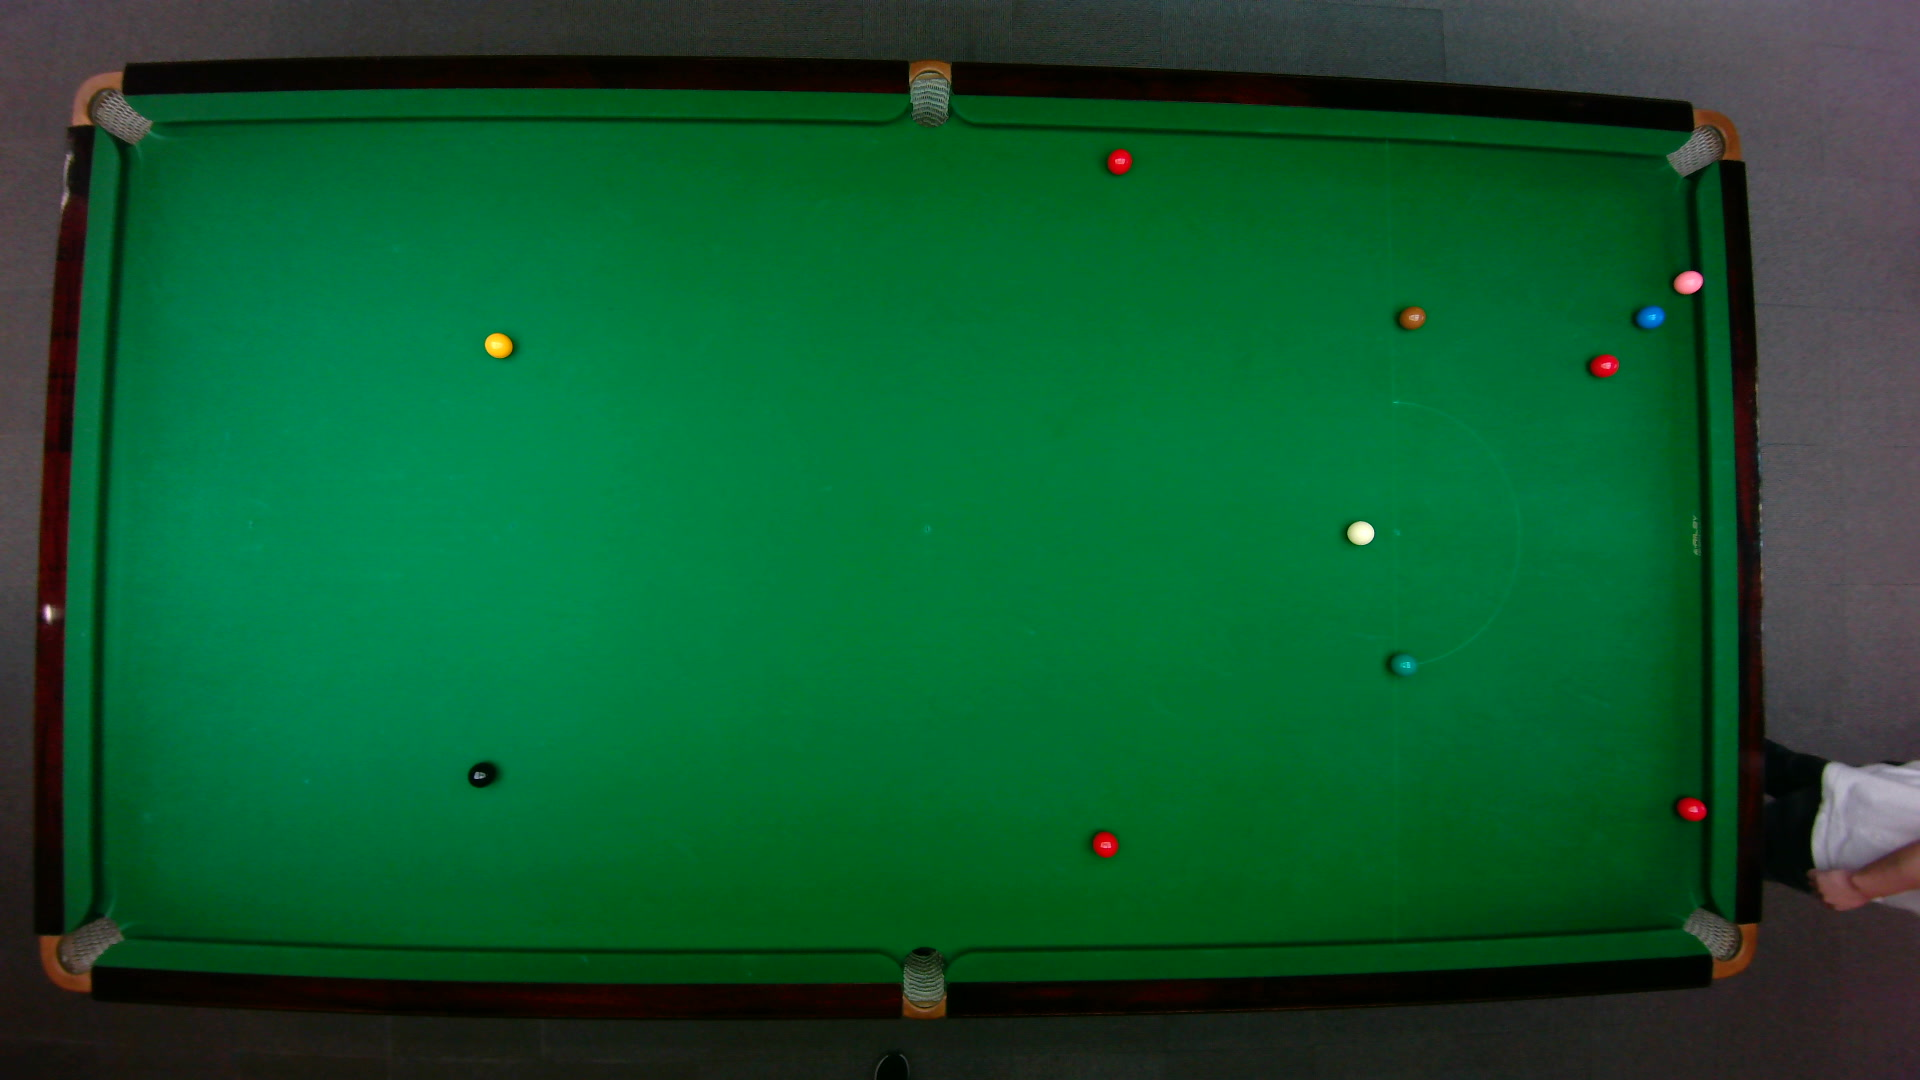bag: (36, 913, 125, 992), (67, 69, 152, 145), (1677, 905, 1756, 978), (1663, 108, 1741, 177), (901, 944, 945, 1021), (909, 58, 949, 128)
black: (465, 760, 496, 789)
blue: (1634, 303, 1665, 328)
brown: (1396, 305, 1427, 328)
green: (1387, 650, 1418, 676)
pink: (1669, 266, 1705, 295)
red: (1673, 794, 1708, 822), (1089, 828, 1120, 858), (1586, 352, 1621, 377), (1104, 146, 1133, 175)
white: (1344, 520, 1375, 546)
yellow: (483, 330, 513, 359)
zone: (1390, 400, 1520, 667)
